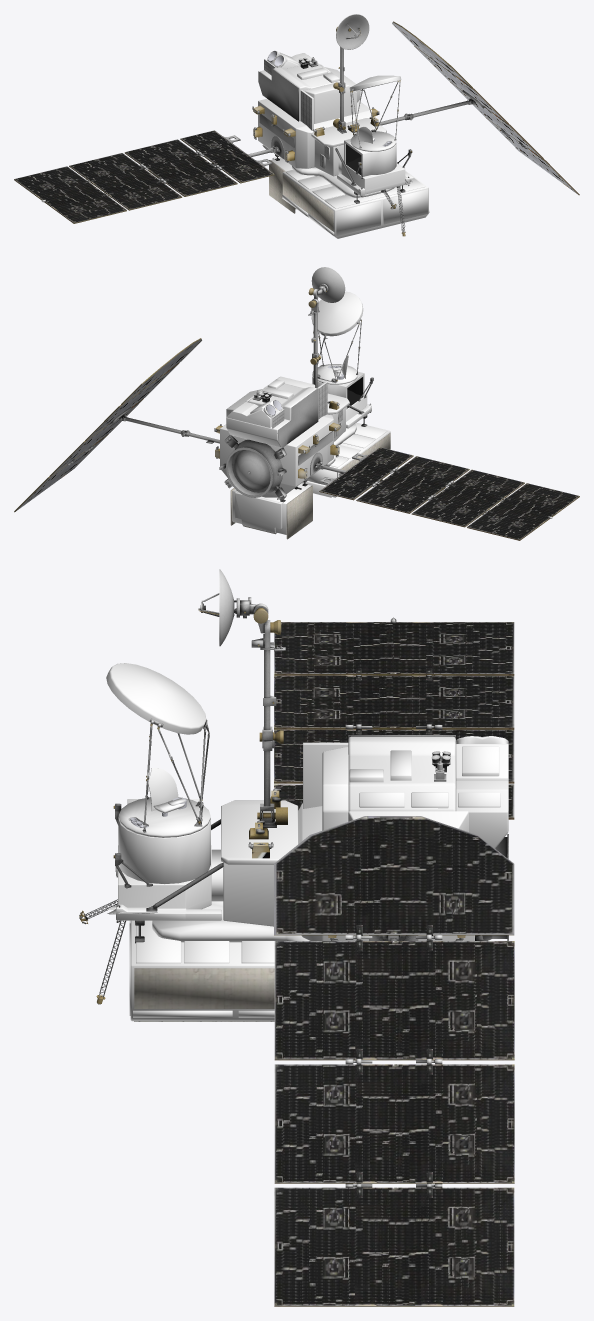
Rendered from GPM.gltf.
3 views of the same model, one above another, from view 1: azimuth 30°, elevation 25°; view 2: azimuth 150°, elevation 25°; view 3: azimuth 270°, elevation 25° (orthographic). The views are drawn at different scales.
Visible parts, largest first — view 1: GPM, GPM.002_Cube.002, GPM_antenna; view 2: GPM, GPM.002_Cube.002, GPM_antenna; view 3: GPM, GPM.002_Cube.002, GPM_antenna.
Boxes of the visible parts, left/top/right/bottom form: GPM: left=14, top=14, right=579, bottom=238; GPM.002_Cube.002: left=260, top=53, right=360, bottom=123; GPM_antenna: left=349, top=75, right=401, bottom=151; GPM: left=14, top=267, right=579, bottom=540; GPM.002_Cube.002: left=226, top=376, right=316, bottom=447; GPM_antenna: left=311, top=291, right=363, bottom=384; GPM: left=79, top=569, right=514, bottom=1306; GPM.002_Cube.002: left=322, top=736, right=508, bottom=848; GPM_antenna: left=106, top=663, right=210, bottom=837.
Size of the model in its own units: 13.52 by 6.35 by 5.02.
12 materials, 10 textured.
